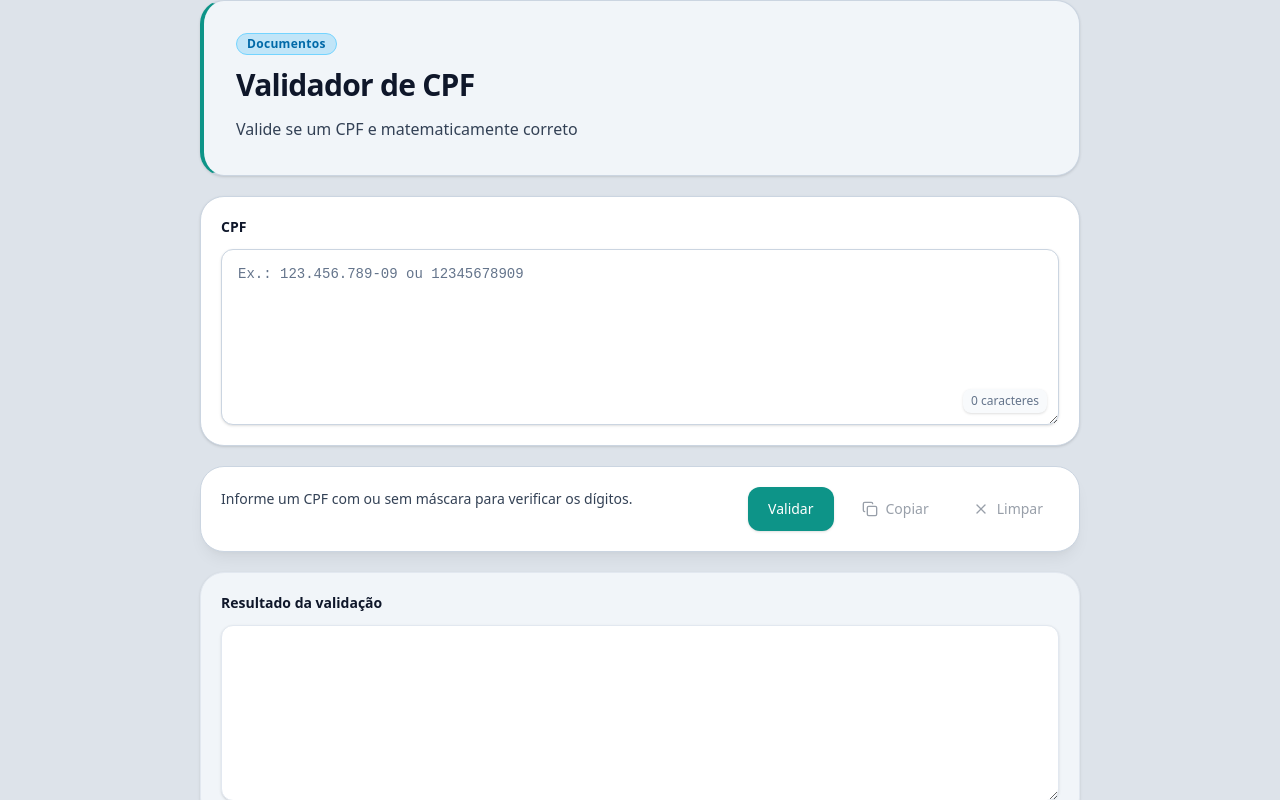
CpfValidatorPage › exibe toast de erro quando o CPF nao pode ser validado
Click the button "Validar": (791, 509) [748,487,834,531]
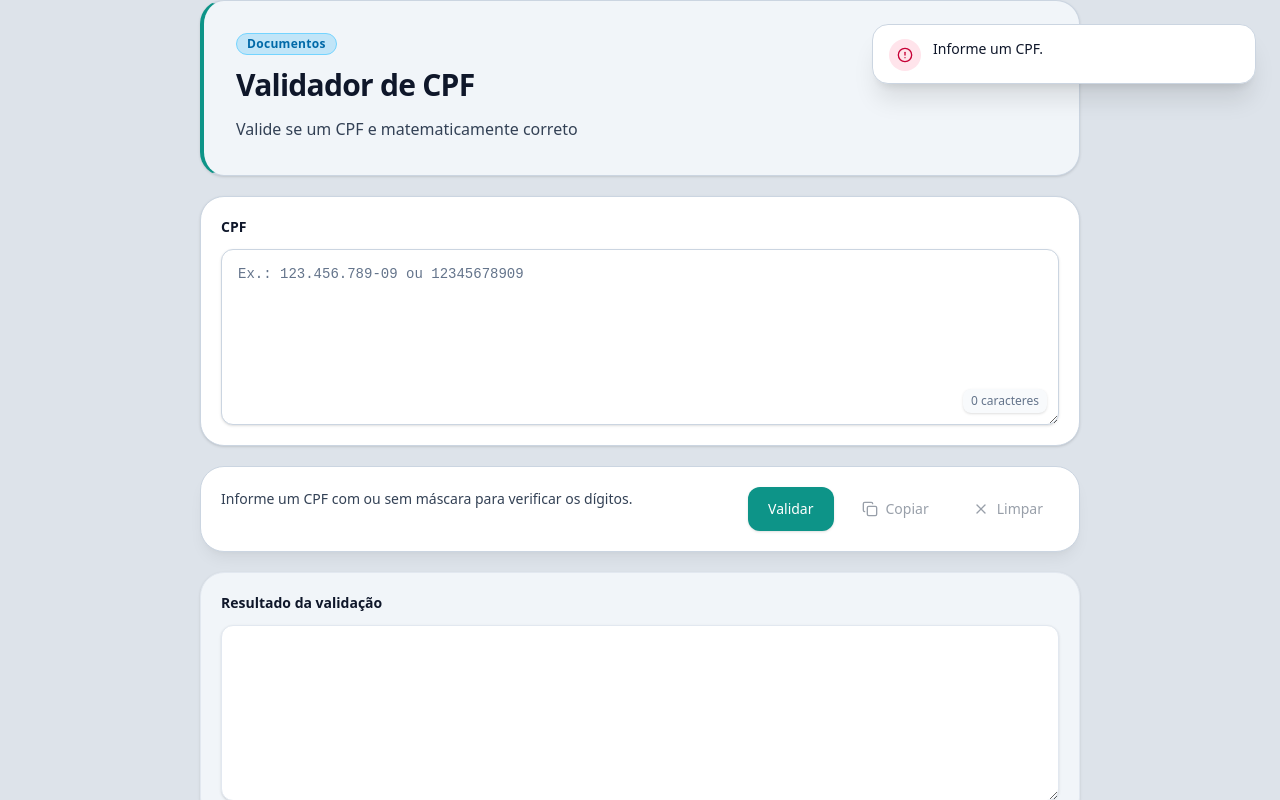
Expected: the text box labelled "Resultado da validação" is empty, [221,625,1059,799]
Expected: the text "Informe um CPF." is shown, [933,37,1043,61]
